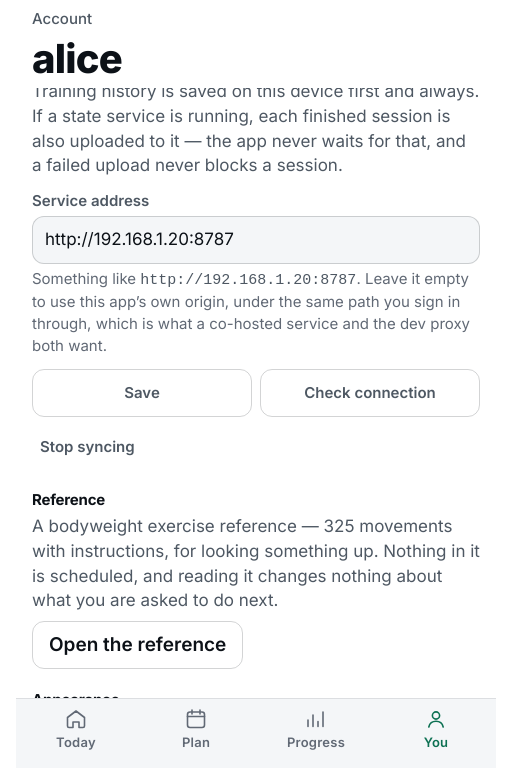
Test: the connection check › offers a backup when the service is empty, because that loses nothing
(page scrolled)
Click the button "Check connection" at (370, 393), box left=260, top=369, right=480, bottom=417
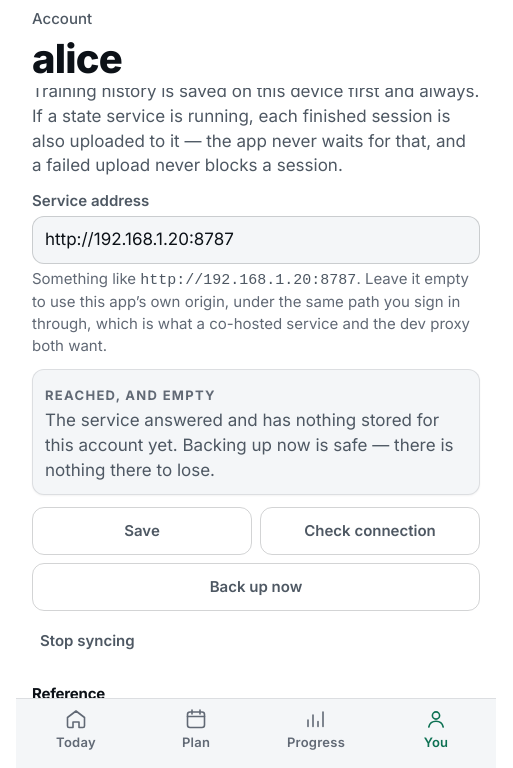
Result: the element with test id "sync-status" shows "Reached, and empty" at left=45, top=387, right=216, bottom=403
Click the button "Back up now" at (256, 587), box left=32, top=563, right=480, bottom=611
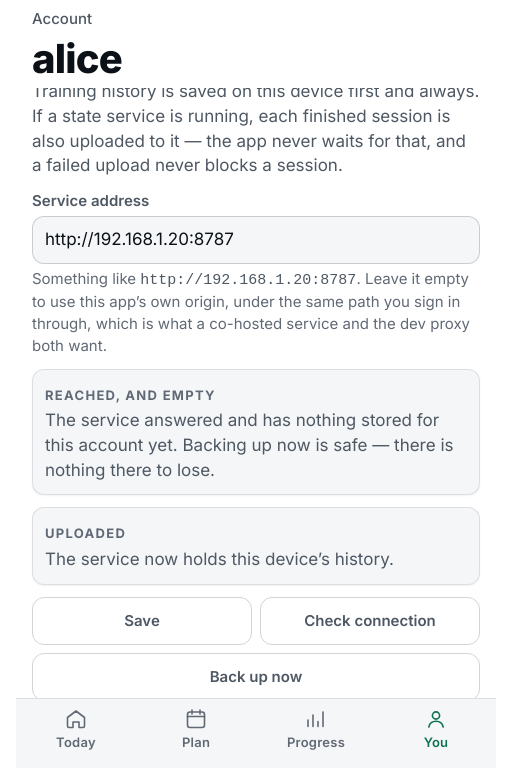
Result: the text "The service now holds this device’s history." is shown at left=45, top=549, right=394, bottom=569
